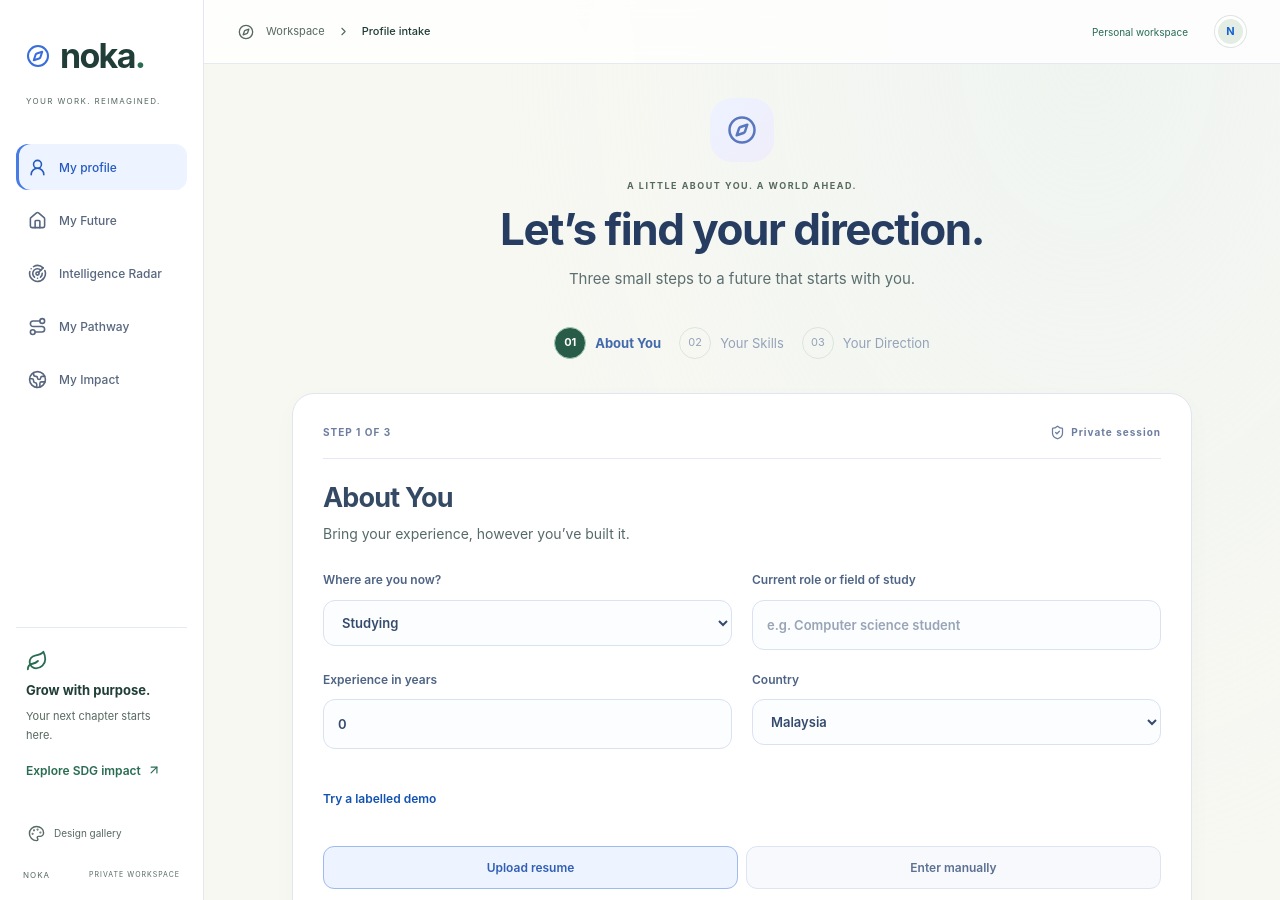
Test: private profile journey › shows required manual-field errors and keeps invalid input away from analysis
Click the button "Enter manually": (954, 868) [746,846,1161,889]
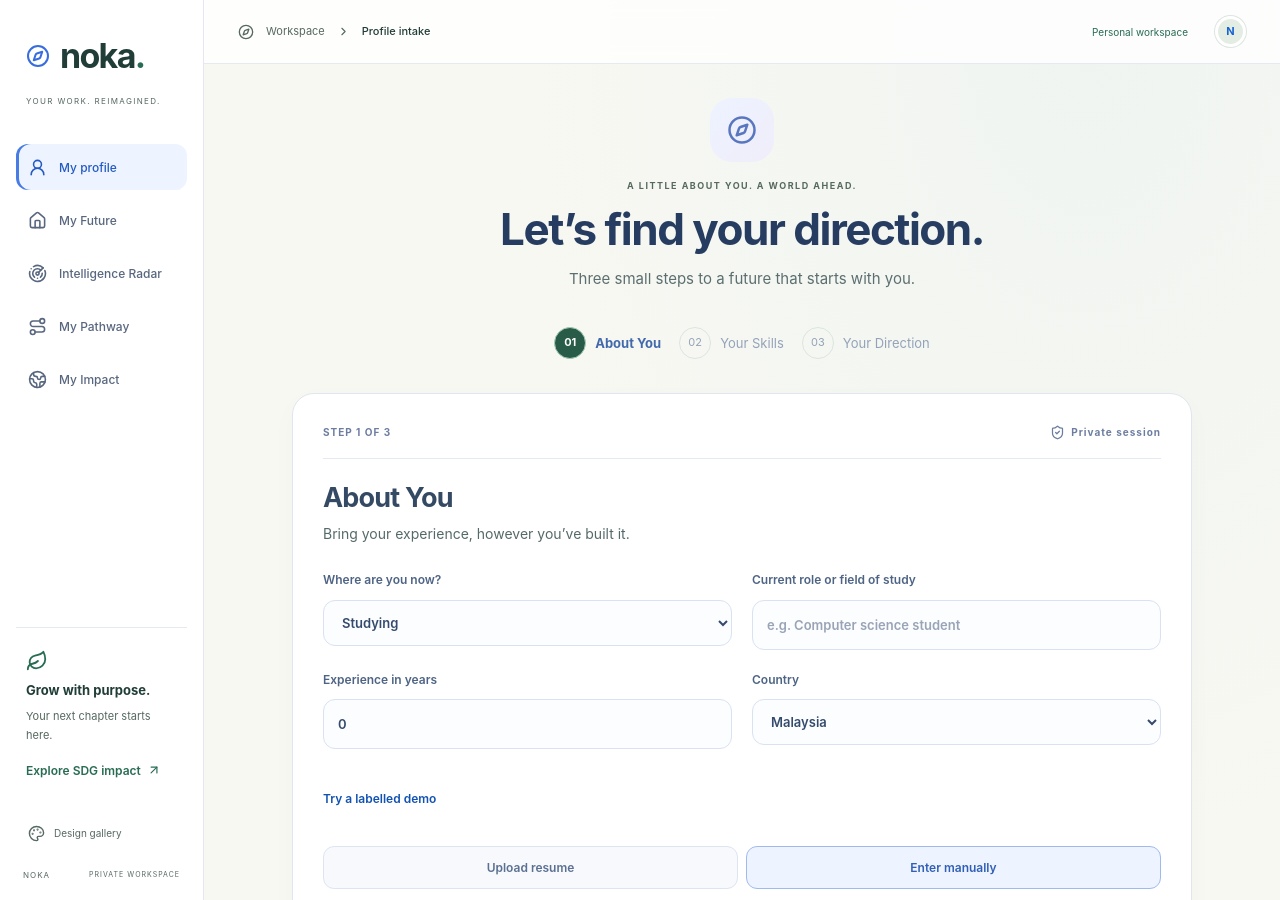
In the field labelled "Current role or field of study": (956, 625) [752,600,1161,650], type "Computer science"
(page scrolled)
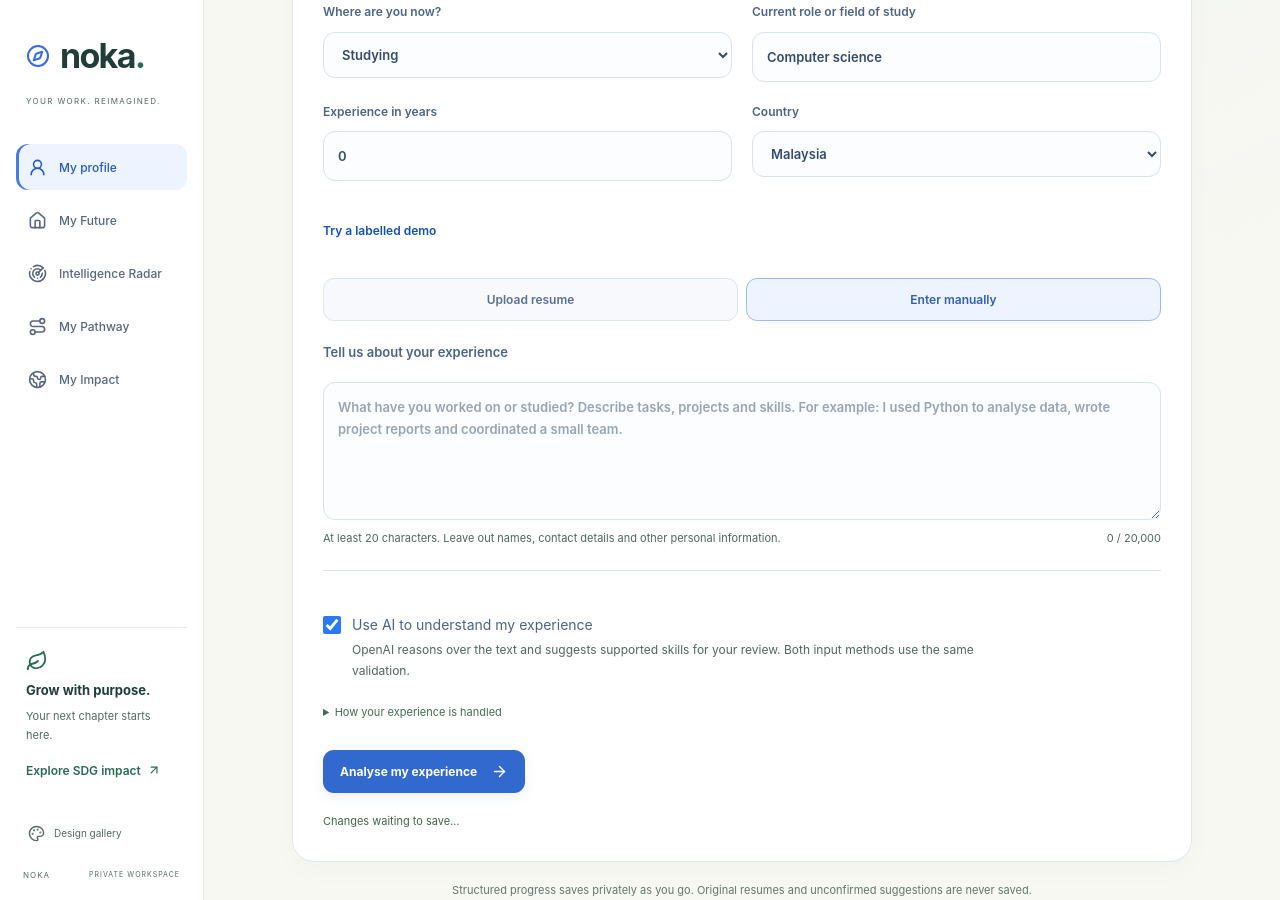
Replace the text in the text box labelled "your experience" with "I used Python programming to build tools, wrote reports and used critical thinking.": (742, 451) [323,382,1161,520]
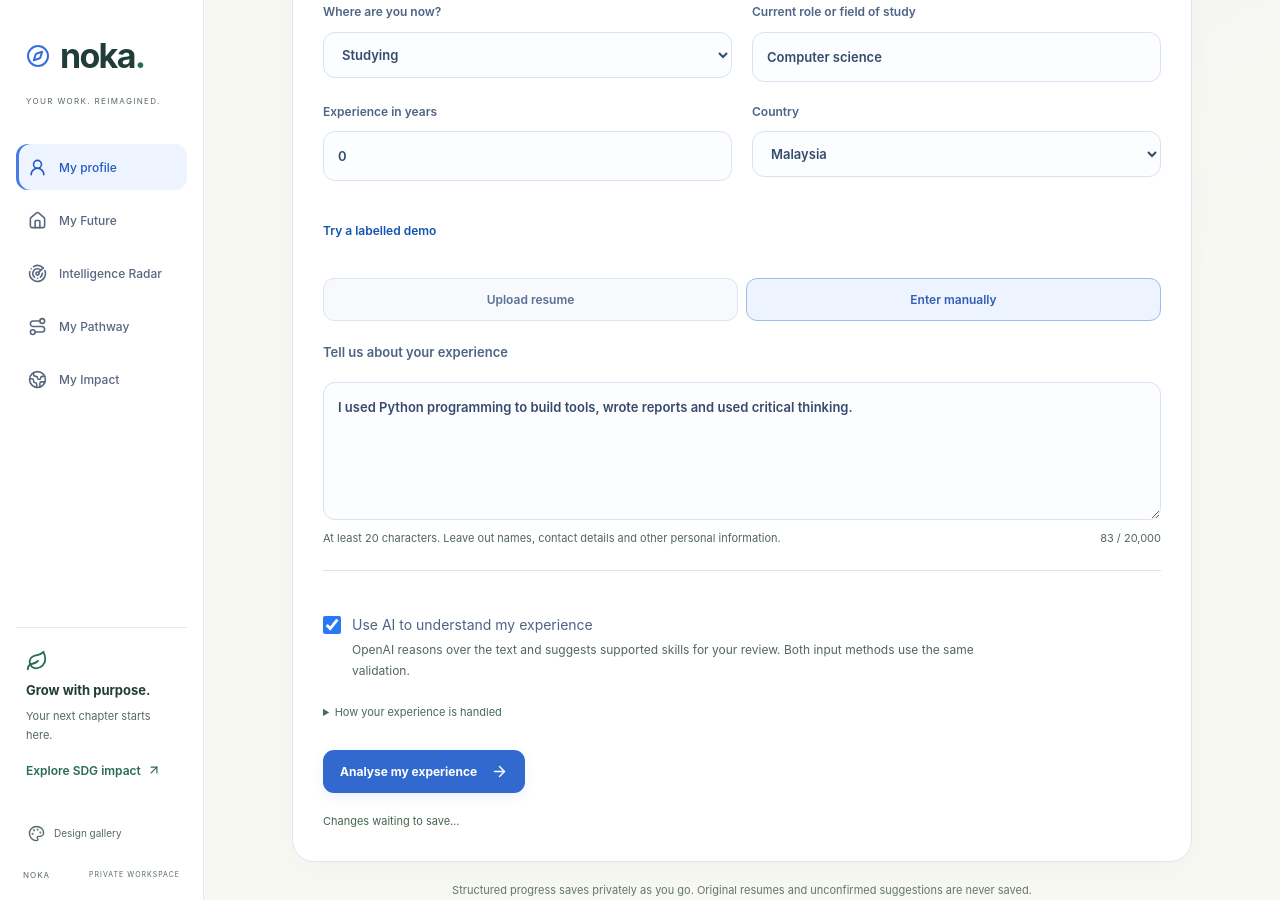
Replace the text in the text box labelled "your experience" with "short": (742, 451) [323,382,1161,520]
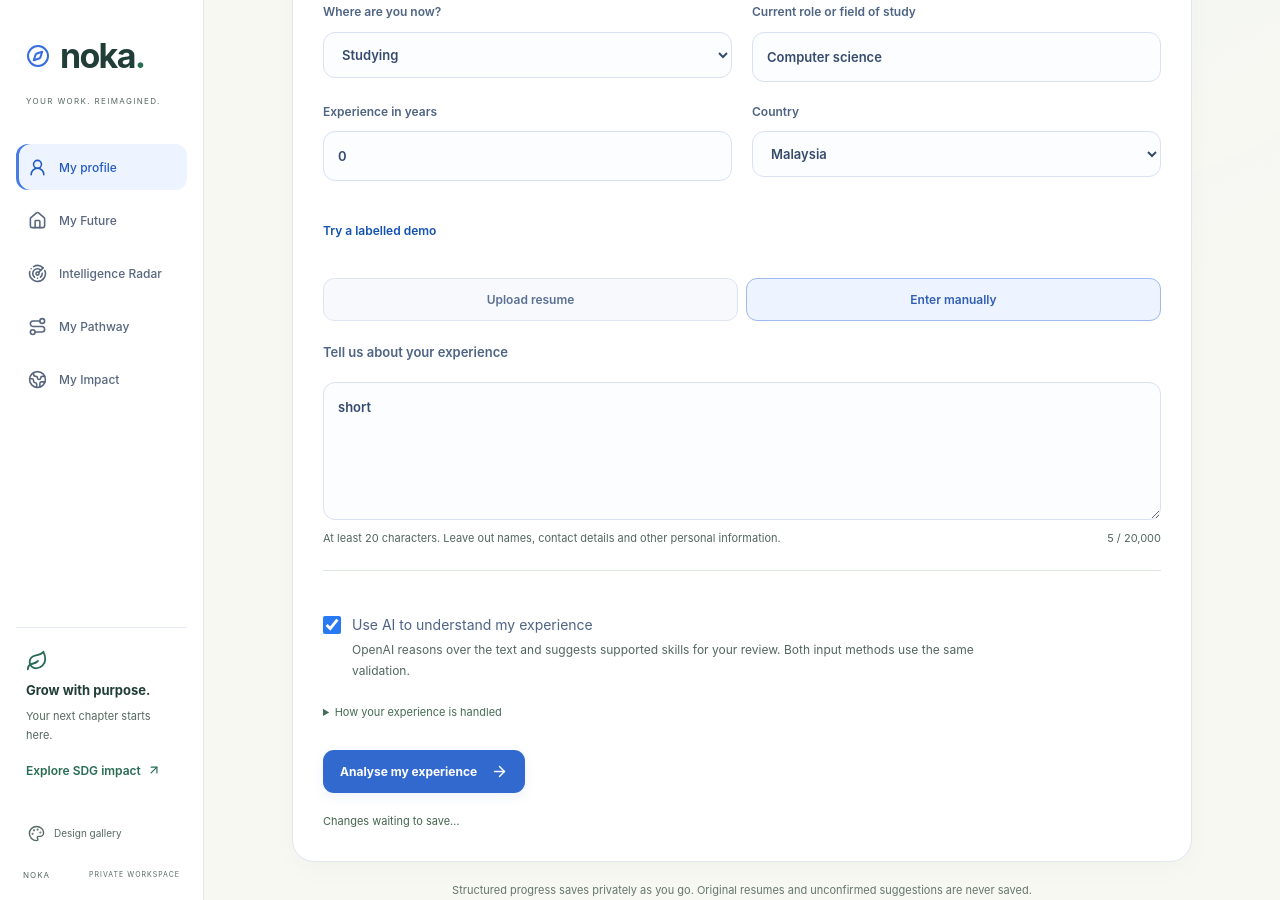
Click the button "Analyse my experience": (424, 771) [323,750,525,793]
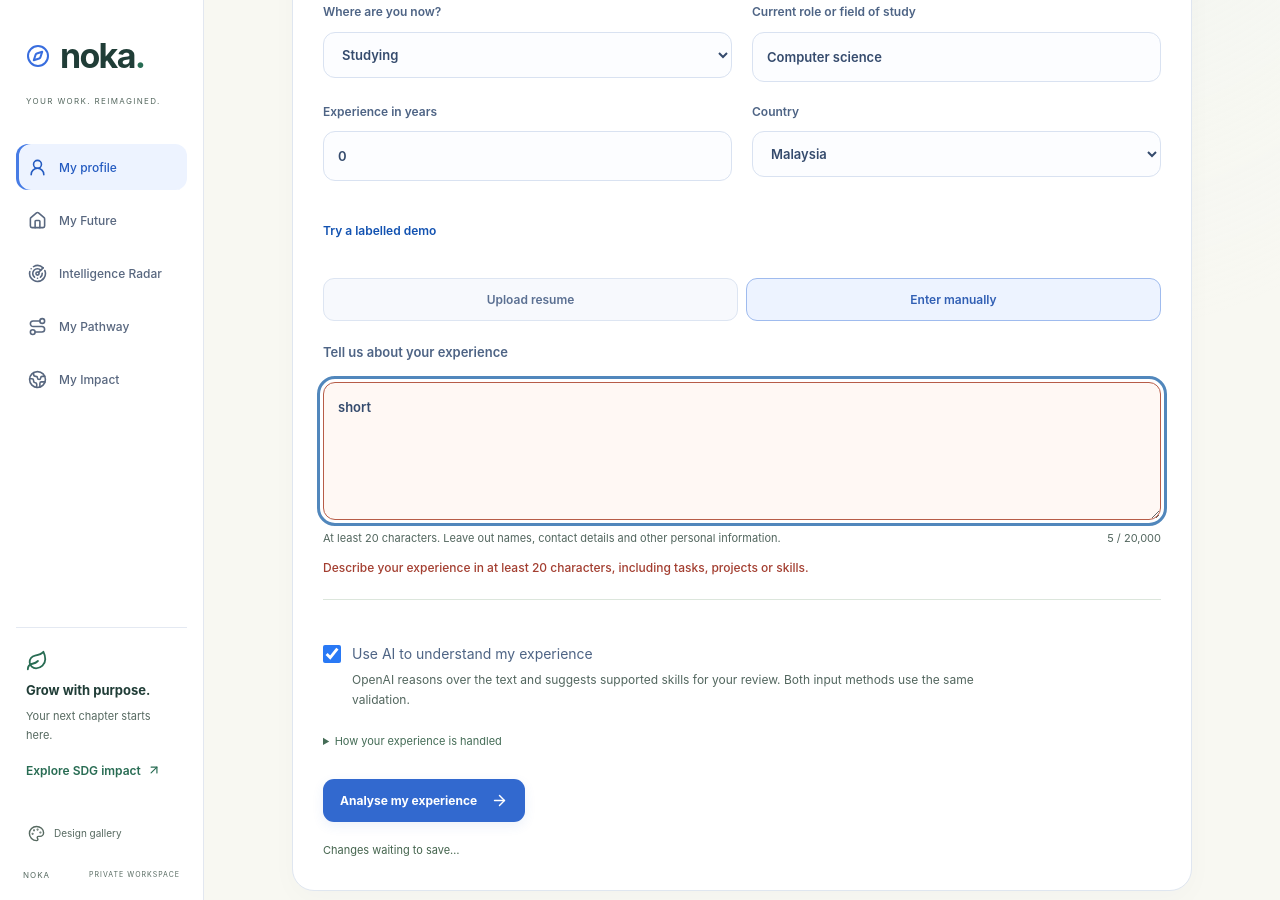
Expected: the 1st message shows "20 characters", [323,560,809,575]
